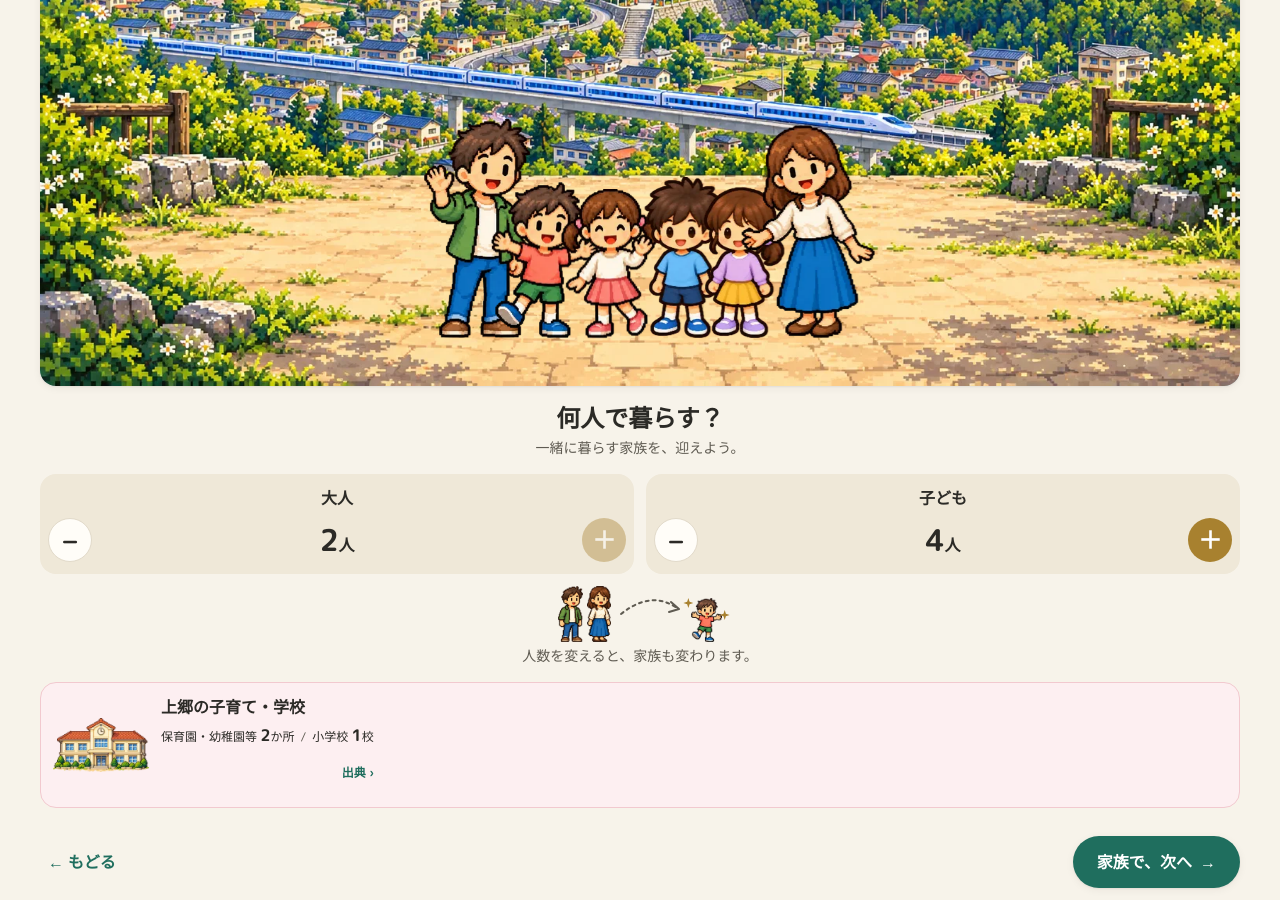
Test: ErabuFlow：質問の進行 › 子ども5人目からは絵の人を増やさず、「＋N人」の札で数える
The image size is (1280, 900).
(page scrolled)
Step 1. Click the button named "子どもを1人増やす" → point(1210, 540), box [1188,518,1232,562]
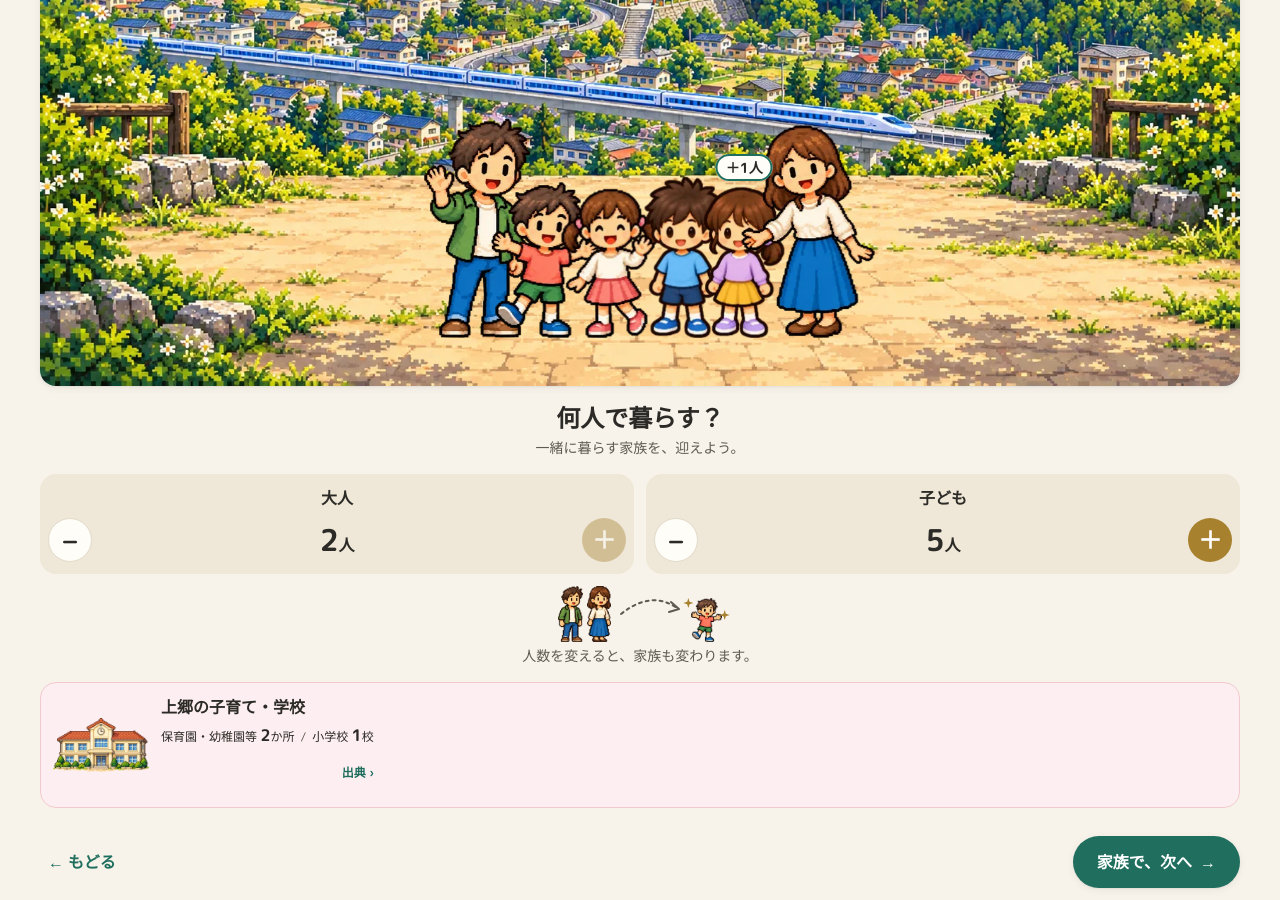
Expected: the text with test id "extra-children" reads "＋1人", [716,154,773,181]
Step 2. Click the button named "子どもを1人増やす" → point(1210, 540), box [1188,518,1232,562]
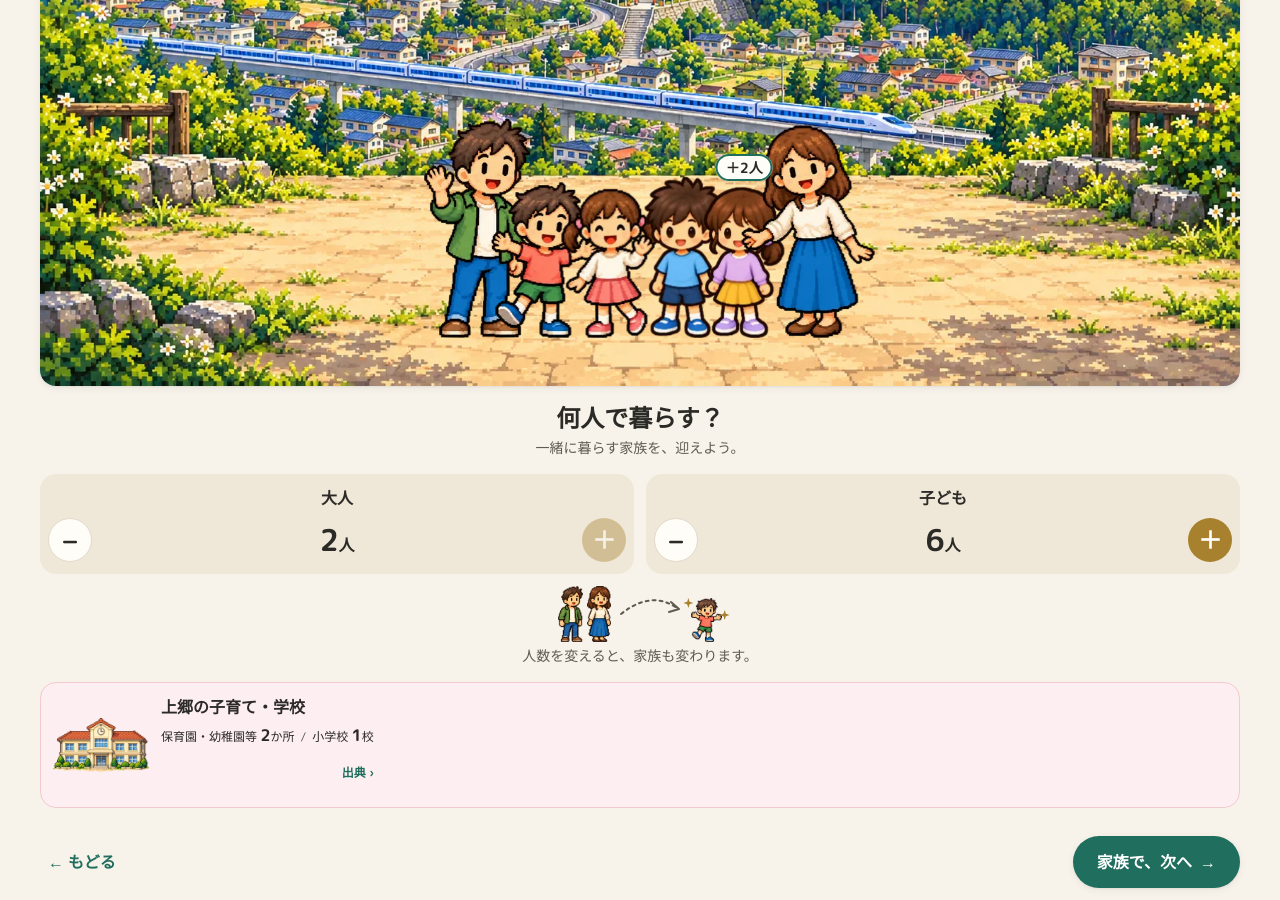
Expected: the text with test id "extra-children" reads "＋2人", [716,154,773,181]
Step 3. Click the button named "子どもを1人減らす" → point(676, 540), box [654,518,698,562]
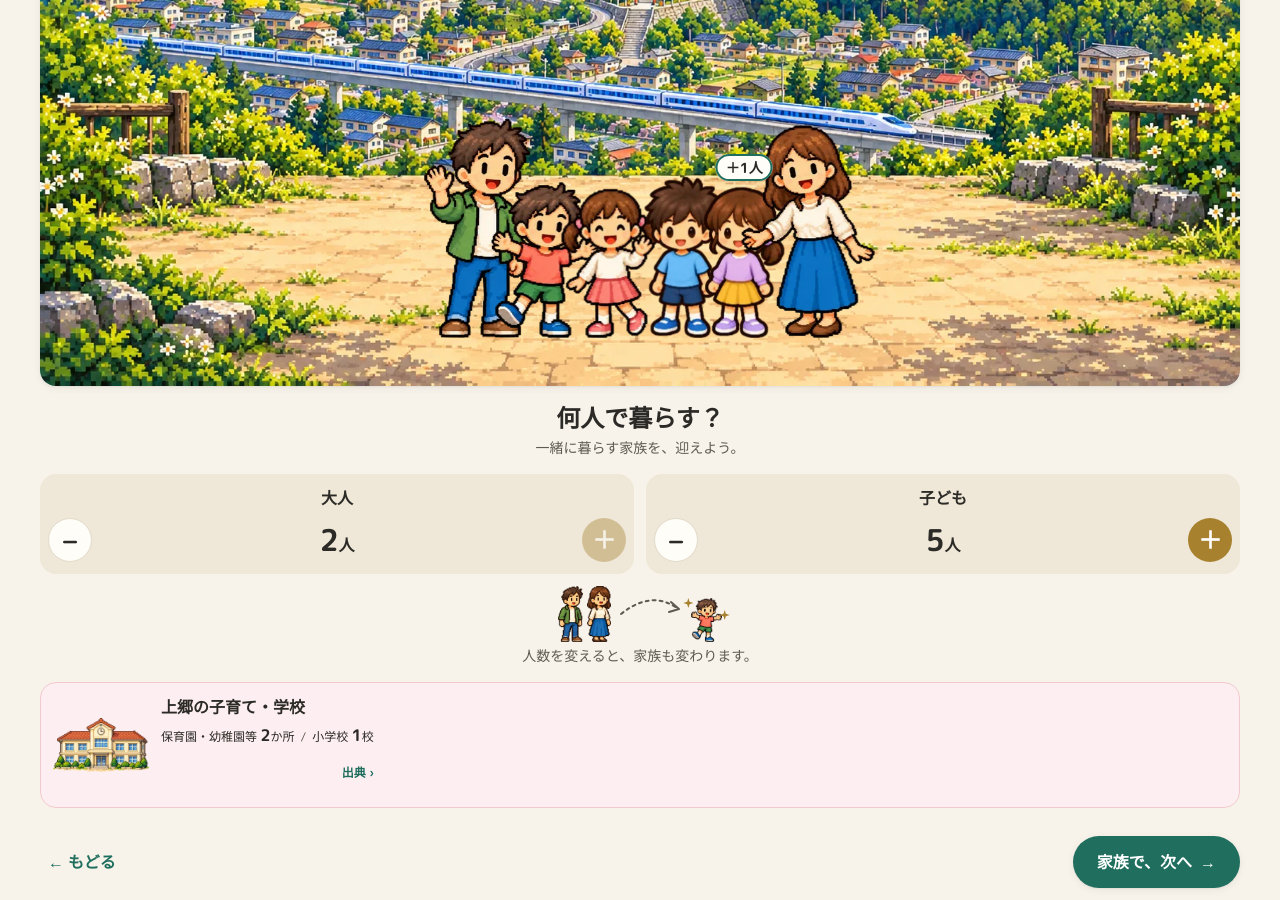
Step 4. Click the button named "子どもを1人減らす" → point(676, 540), box [654,518,698,562]
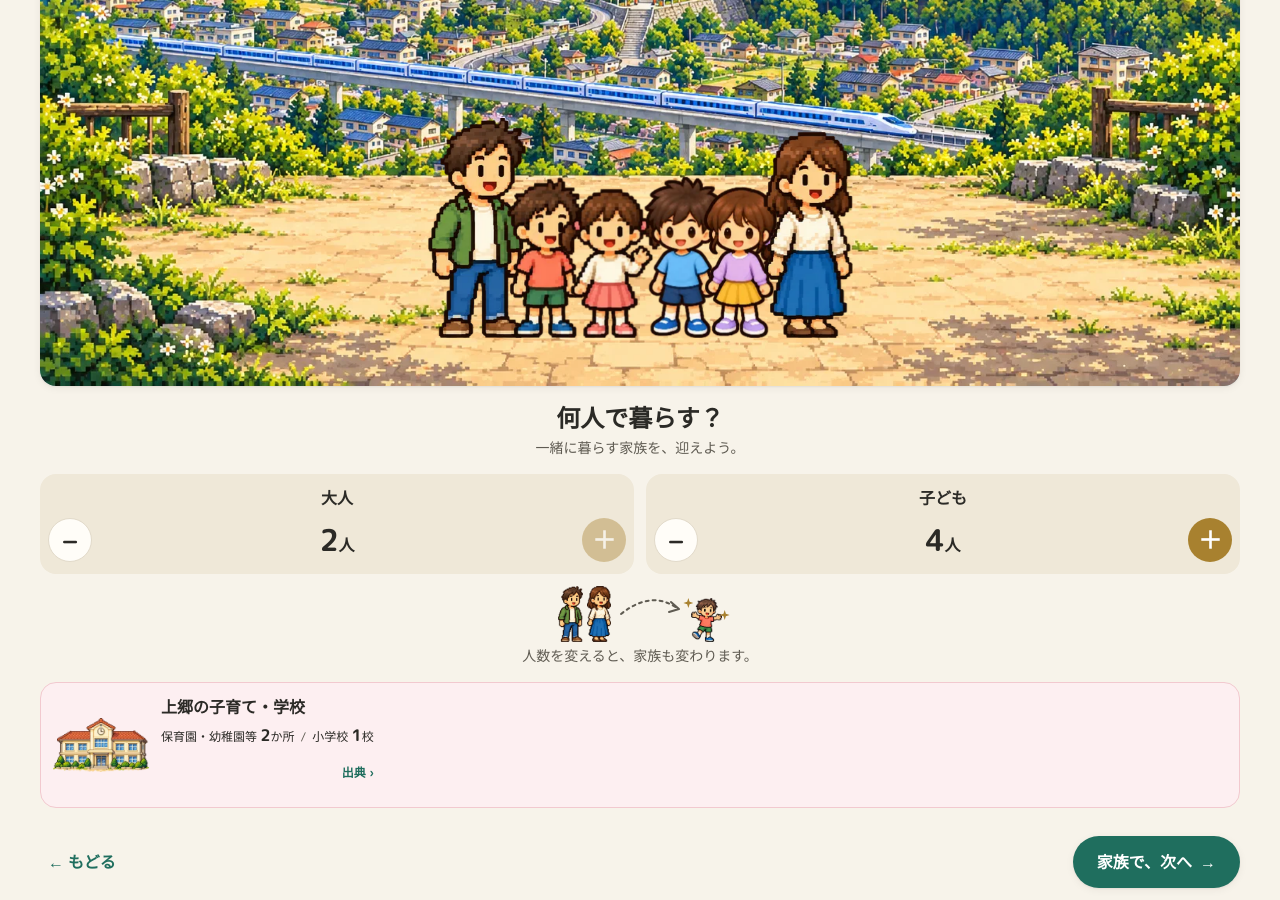
Expected: the text with test id "extra-children" is gone
